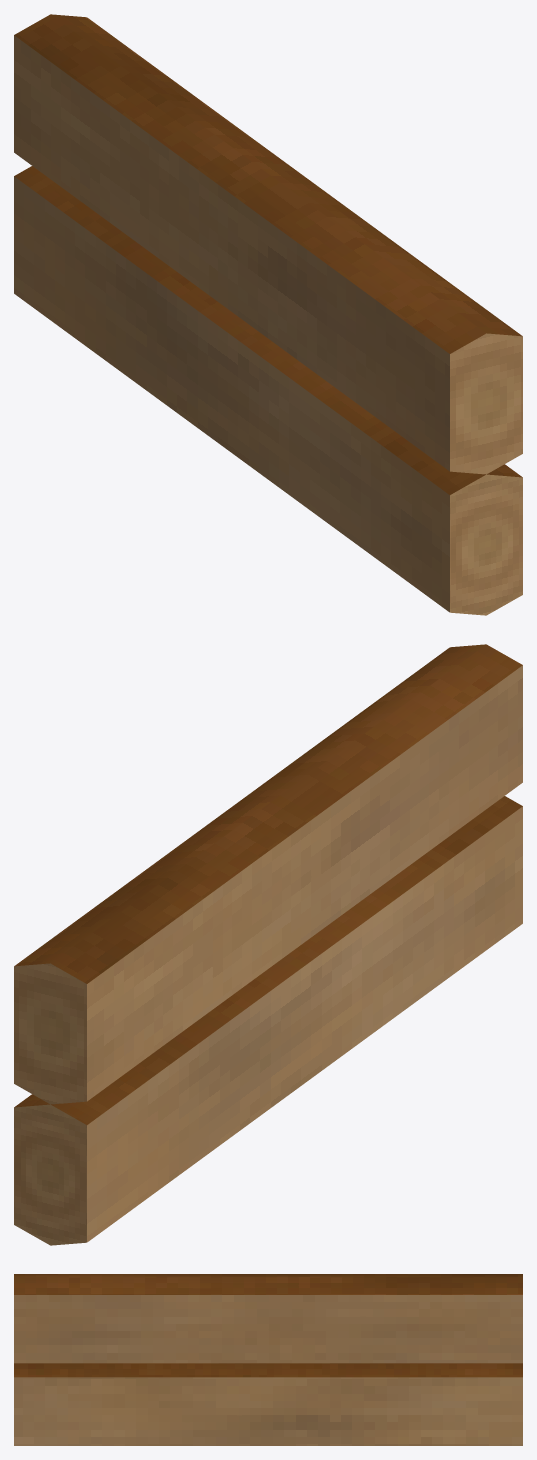
File: Docks_Bumper_1_1x1.glb
The picture shows the model from 3 angles, top to bottom: view 1: azimuth 30°, elevation 25°; view 2: azimuth 150°, elevation 25°; view 3: azimuth 270°, elevation 25°; orthographic projection. The views are drawn at different scales.
Visible parts, largest first — view 1: Docks_Bumper_1_1x1; view 2: Docks_Bumper_1_1x1; view 3: Docks_Bumper_1_1x1.
Boxes of the visible parts, box(x1,y1,x2,y2) form: Docks_Bumper_1_1x1: box(14, 14, 522, 615); Docks_Bumper_1_1x1: box(14, 644, 522, 1245); Docks_Bumper_1_1x1: box(14, 1274, 522, 1445).
Size of what is drawn, in the model's own units: 9.38 by 34.6 by 96.88.
Materials: 3 (3 with a texture image).
